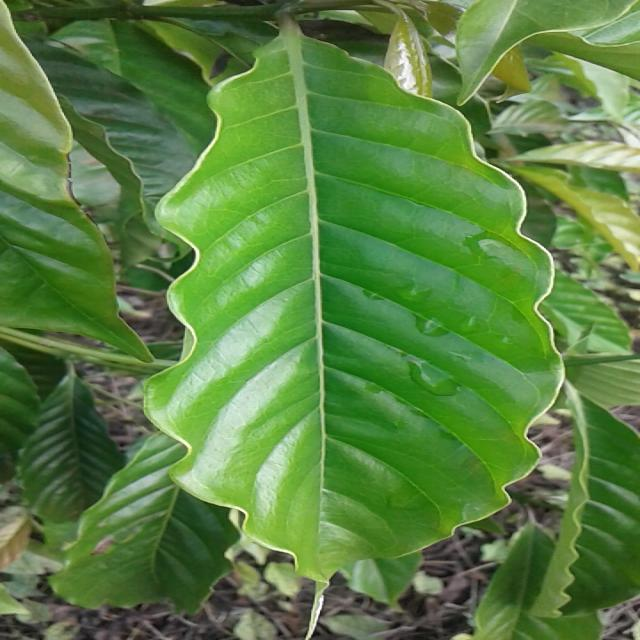Sanas: (138, 22, 564, 589)
